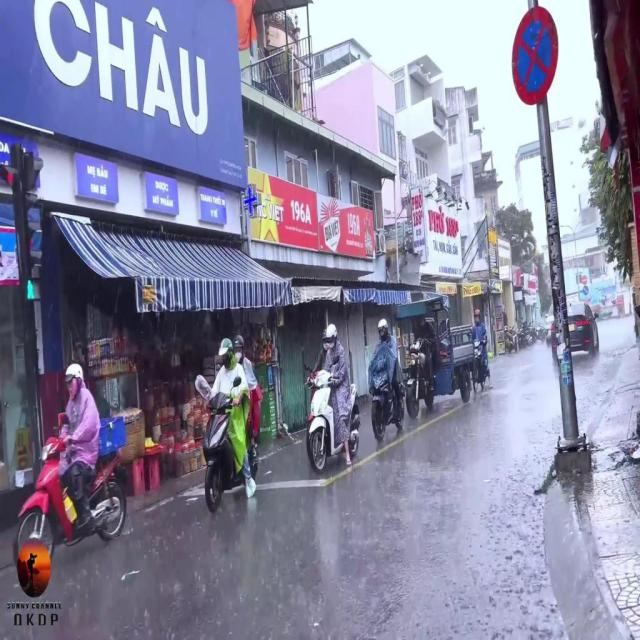cam_dung_xe_va_do_xe: (510, 5, 560, 106)
cam_xe_di_nguoc_chieu: (582, 274, 588, 284)
huong_phai_di_vuot_chuong_ngai_vat_phai: (583, 285, 589, 295)
